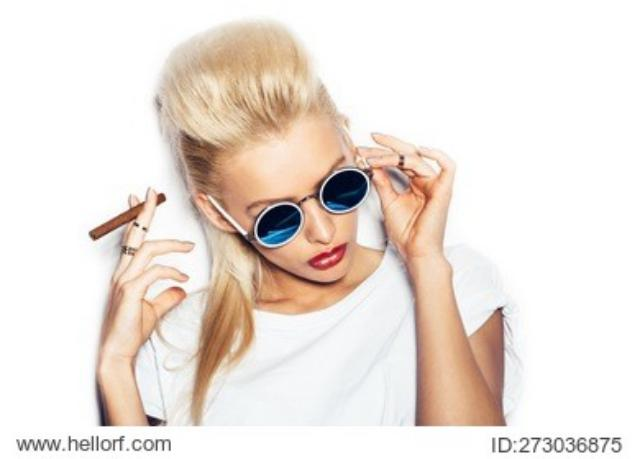Cigarette: (72, 197, 170, 243)
